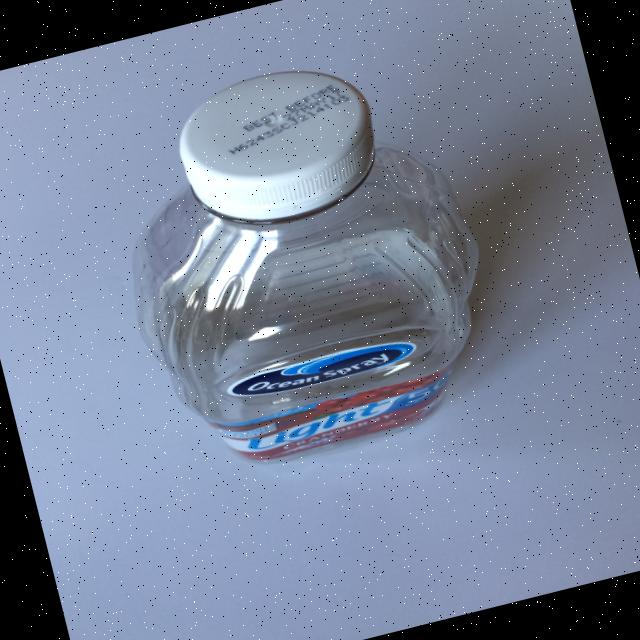plastic: (85, 33, 518, 487)
